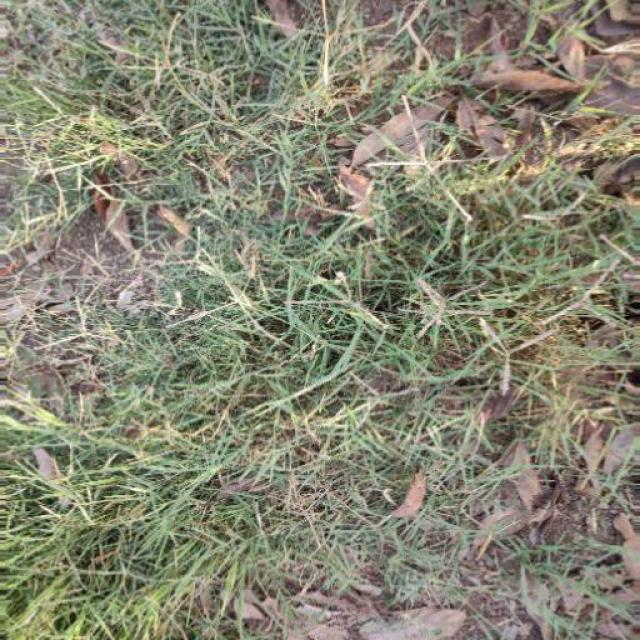weed: (47, 38, 604, 588)
